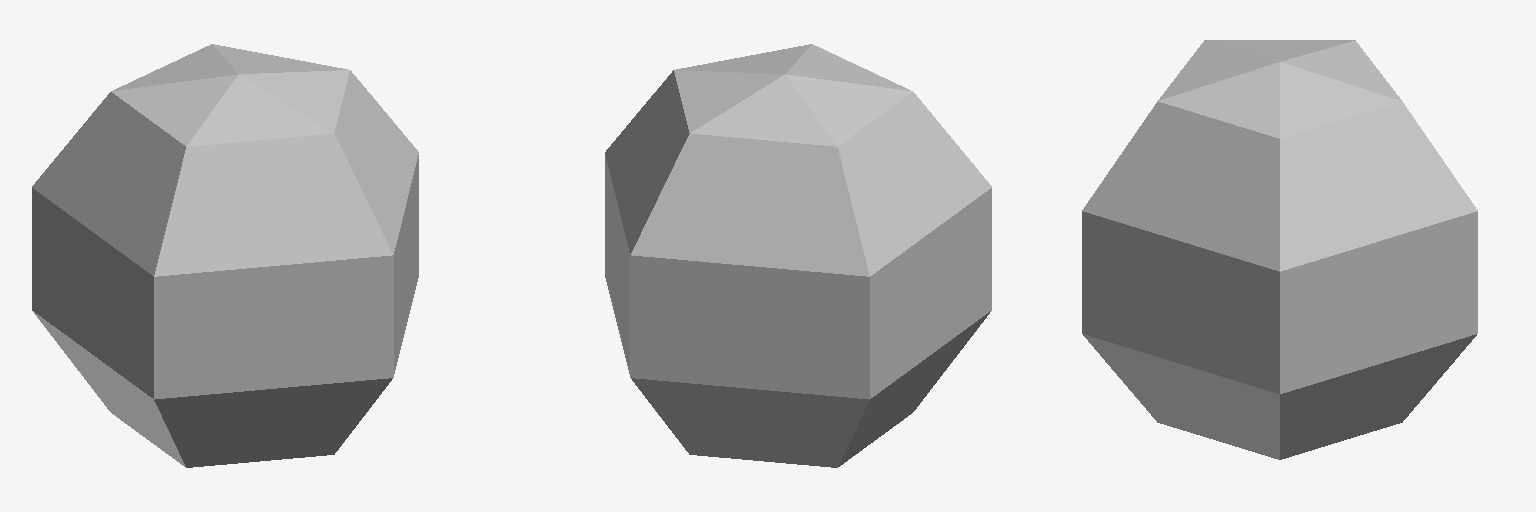
The model's file is meatball.obj.
3 renders of one model, left to right at view 1: azimuth 30°, elevation 25°; view 2: azimuth 150°, elevation 25°; view 3: azimuth 270°, elevation 25°, orthographic.
Visible parts, largest first — view 1: pSphere1; view 2: pSphere1; view 3: pSphere1.
Part boxes in pixels (bbox=[...]): pSphere1: bbox=[32, 44, 418, 467]; pSphere1: bbox=[605, 44, 991, 467]; pSphere1: bbox=[1082, 40, 1477, 459].
Bounding box in the file's own units: 1.72 × 1.87 × 1.81.